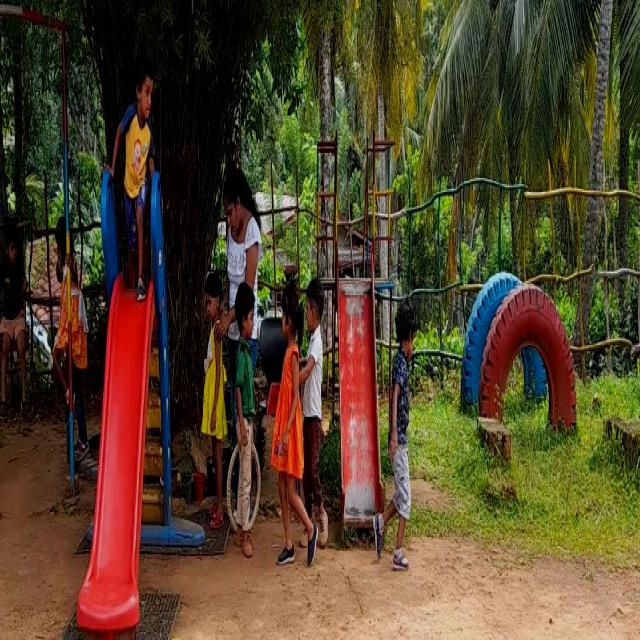child: (380, 272, 429, 564), (280, 246, 311, 550), (125, 64, 160, 303), (230, 276, 261, 540), (306, 234, 334, 517), (194, 273, 222, 529), (0, 197, 29, 406)
